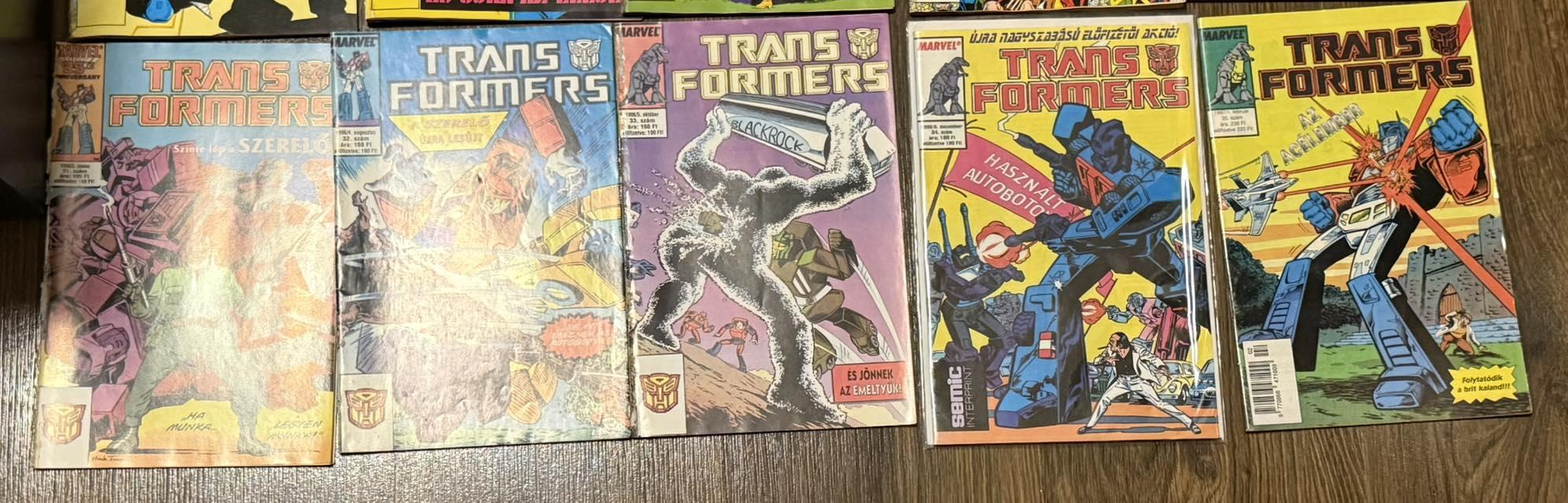comic: (1191, 0, 1530, 448), (902, 7, 1222, 453), (325, 22, 633, 452), (34, 42, 334, 468), (615, 12, 914, 437)
